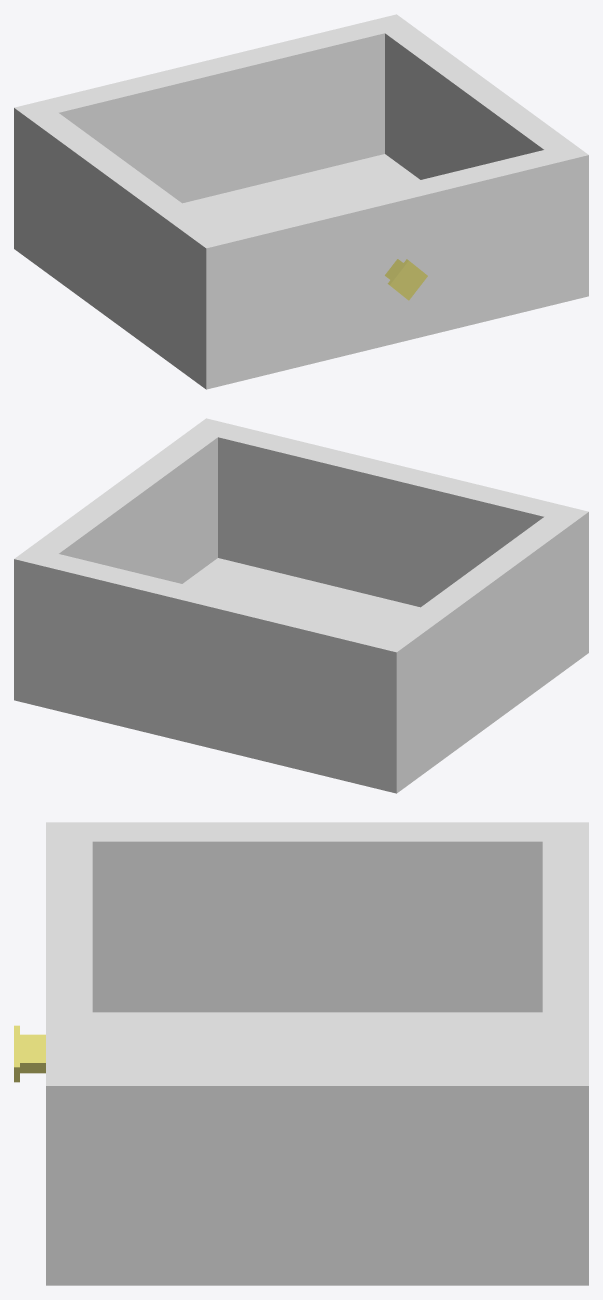
The model's file is Itr_Bed_Bunk2_Drawer2_04.FBX.
3 views of the same model, one above another, from view 1: azimuth 30°, elevation 25°; view 2: azimuth 150°, elevation 25°; view 3: azimuth 270°, elevation 25° (orthographic). The views are drawn at different scales.
Parts seen in each view (by area): view 1: Itr_Bed_Bunk2_Drawer2_04; view 2: Itr_Bed_Bunk2_Drawer2_04; view 3: Itr_Bed_Bunk2_Drawer2_04.
Part boxes in pixels (left/top/right/bottom): Itr_Bed_Bunk2_Drawer2_04: left=14, top=14, right=588, bottom=389; Itr_Bed_Bunk2_Drawer2_04: left=14, top=418, right=588, bottom=793; Itr_Bed_Bunk2_Drawer2_04: left=14, top=822, right=588, bottom=1285.
Bounding box in the file's own units: 45.13 × 15.92 × 41.58.
